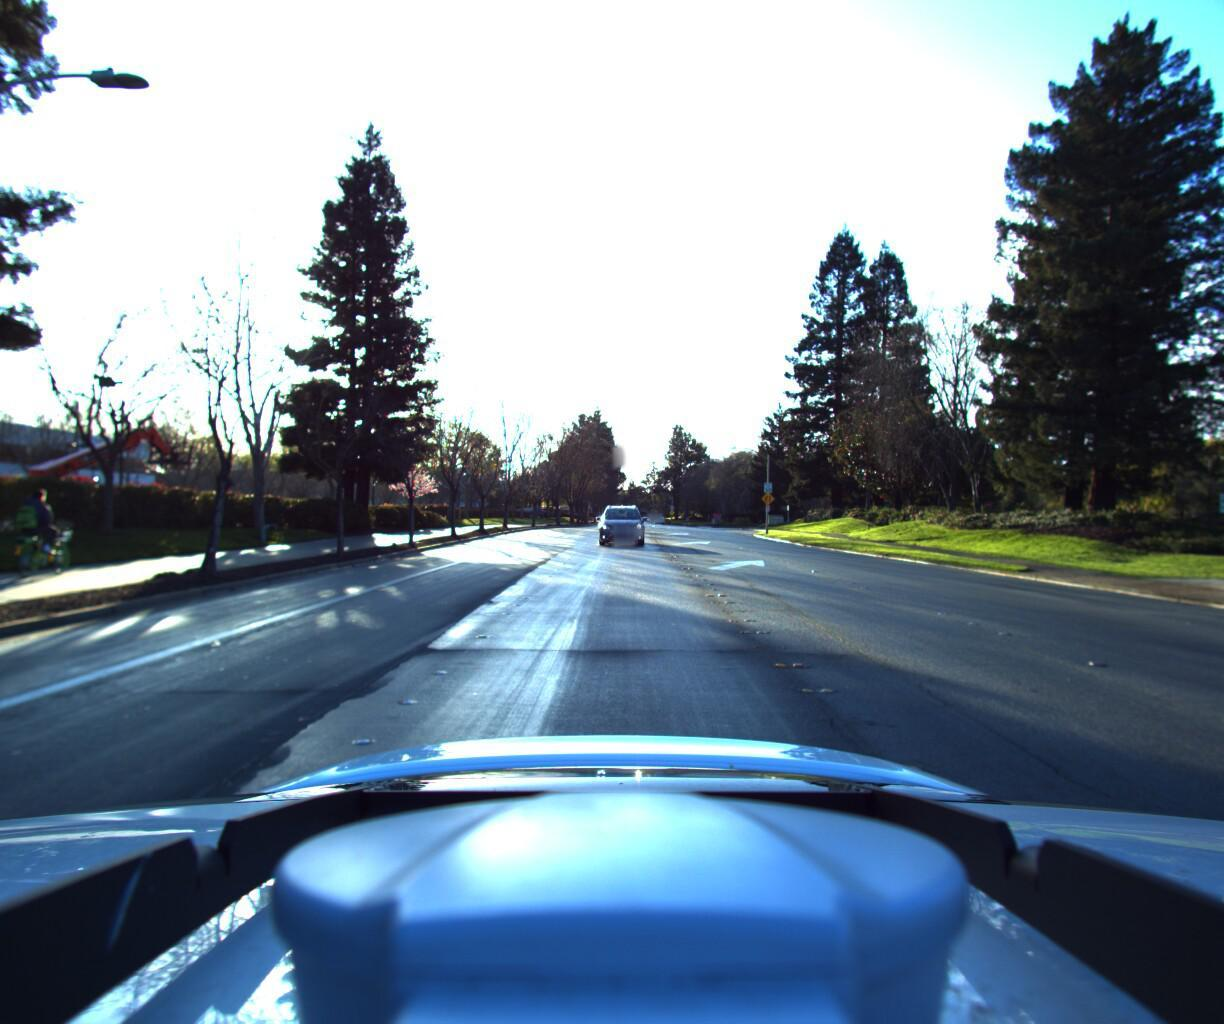bicycle: (0, 484, 95, 578)
car: (596, 501, 644, 545)
other_vehicle: (0, 404, 219, 541)
